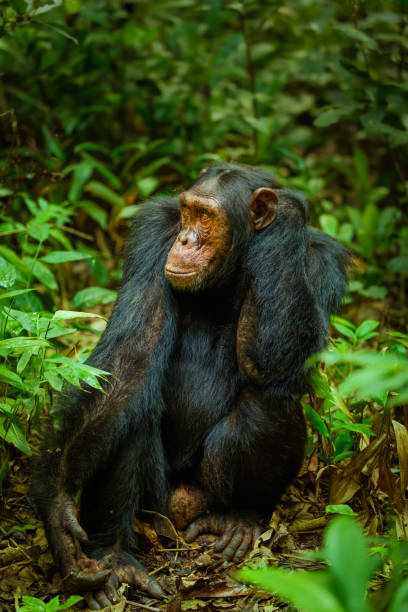chimpanzee: (120, 131, 285, 320)
